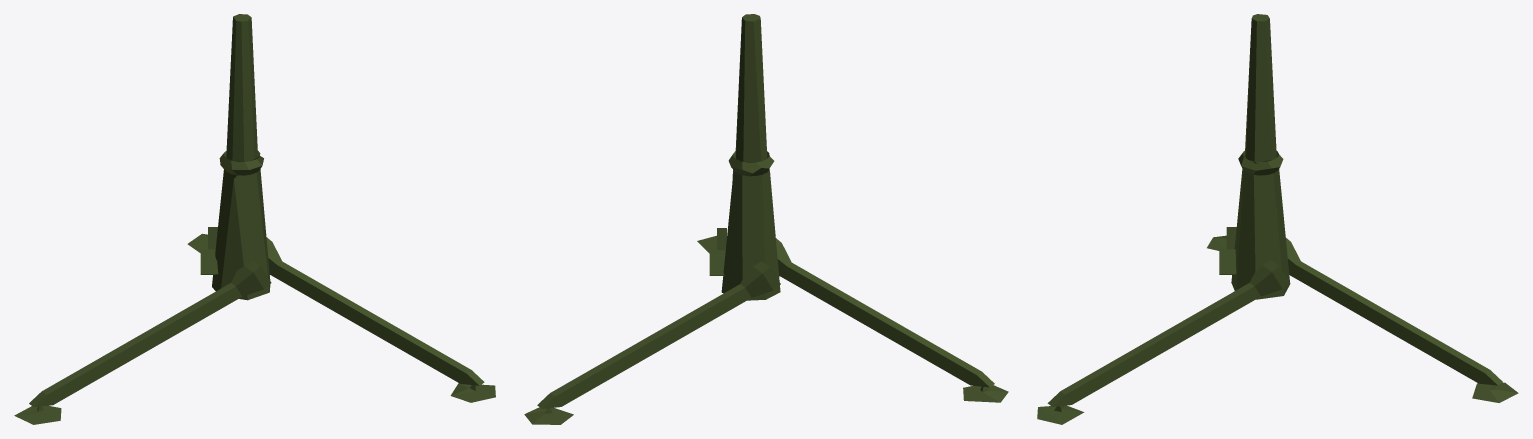
The model's file is rbs70_STAND_scaled_1_5_(MIN).glb.
The picture shows the model from 3 angles, left to right: view 1: azimuth 30°, elevation 25°; view 2: azimuth 150°, elevation 25°; view 3: azimuth 270°, elevation 25°; orthographic projection.
Parts seen in each view (by area): view 1: STAND MASTER; view 2: STAND MASTER; view 3: STAND MASTER.
Part boxes in pixels (x1,y1,x2,y2): STAND MASTER: [14, 14, 495, 424]; STAND MASTER: [524, 14, 1008, 424]; STAND MASTER: [1037, 14, 1518, 424].
Bounding box in the file's own units: 9.1 × 7.4 × 9.69.
2 materials, 2 textured.
